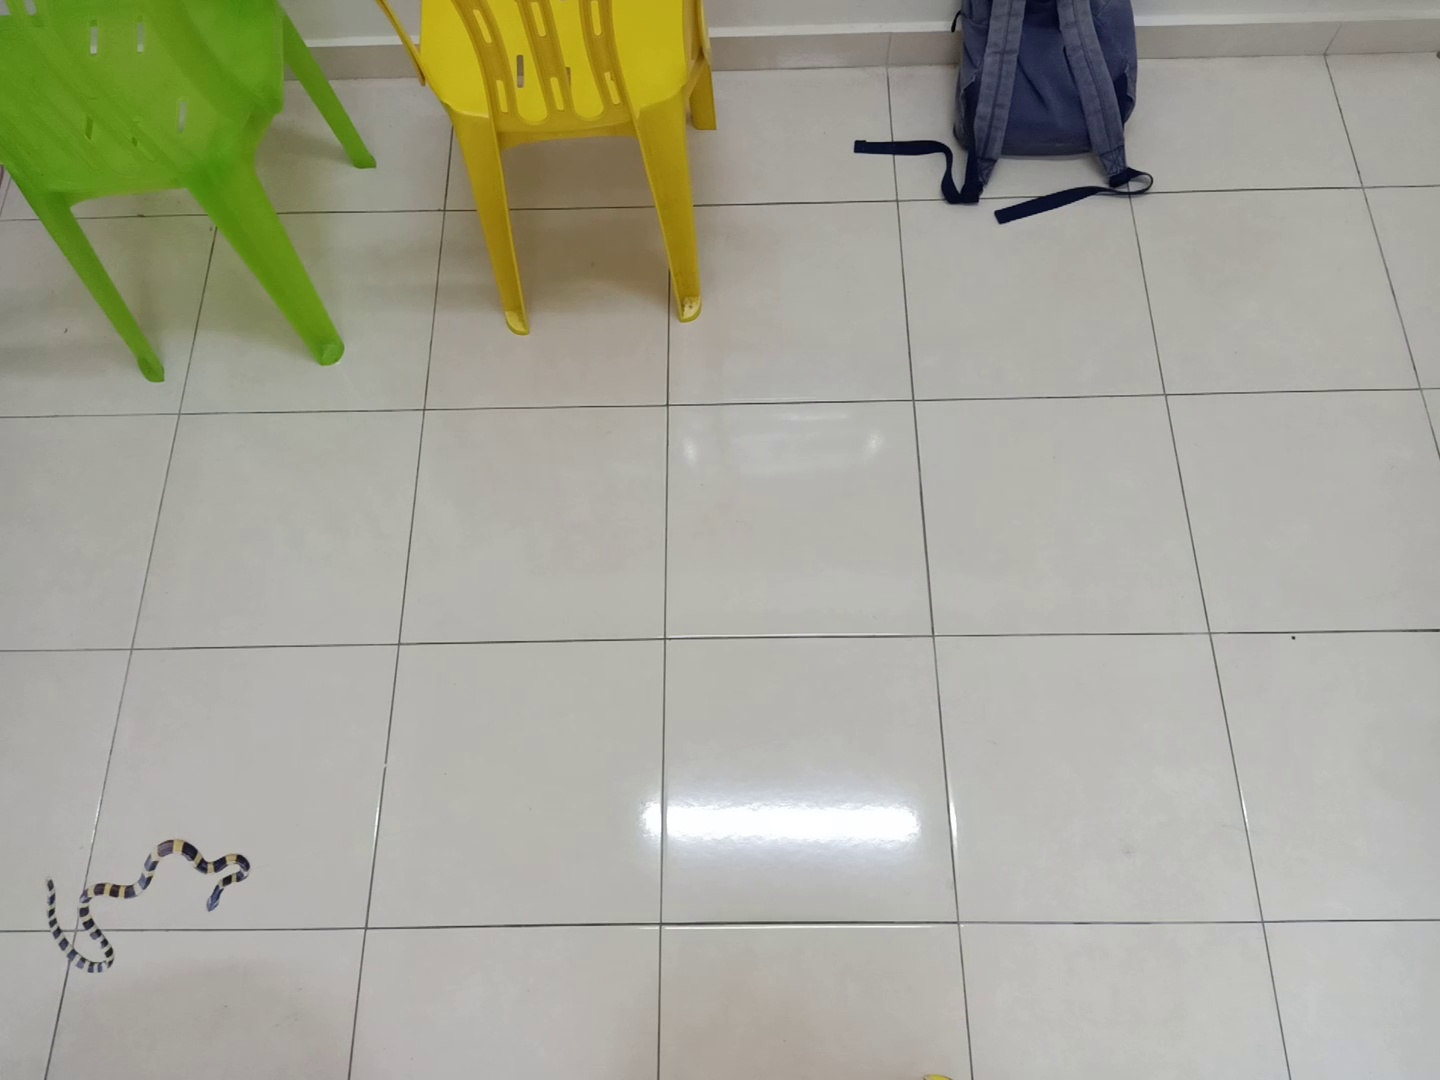snake: (35, 827, 266, 982)
